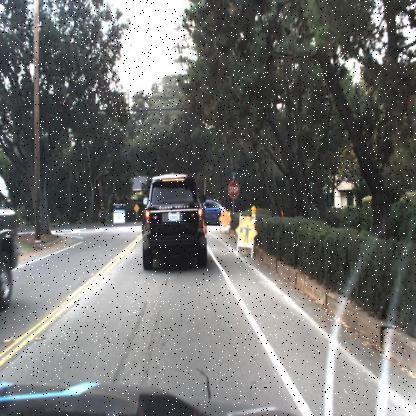car: (139, 169, 209, 273), (0, 159, 21, 318), (191, 195, 228, 228)
